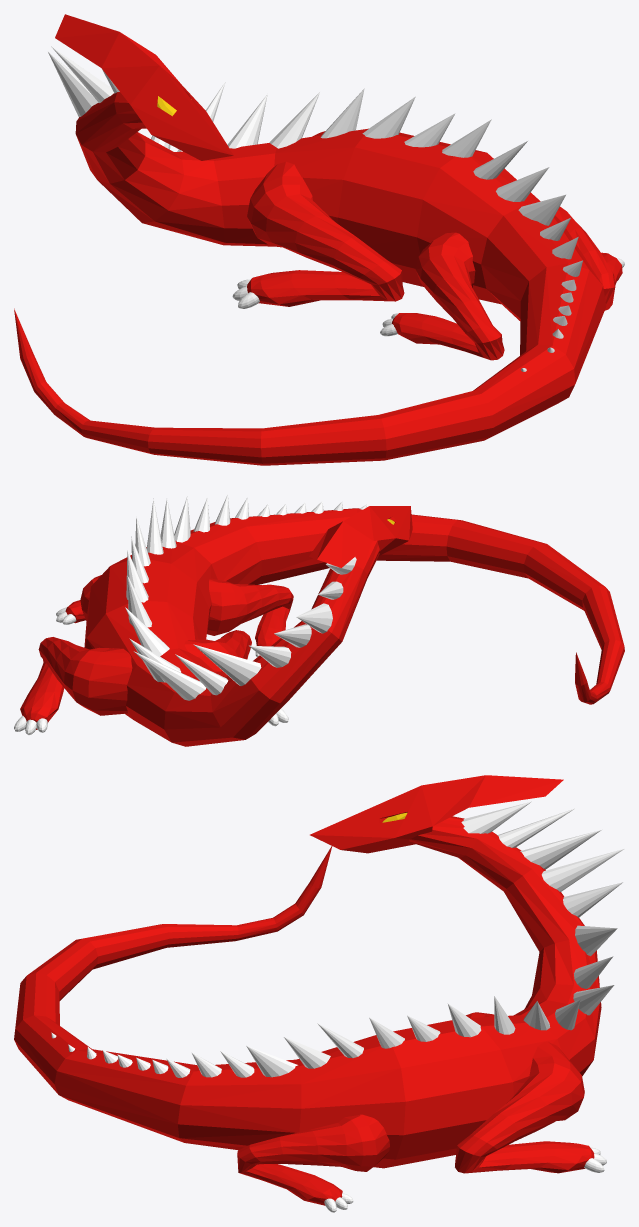
3 views of the same model, one above another, from view 1: azimuth 30°, elevation 25°; view 2: azimuth 150°, elevation 25°; view 3: azimuth 270°, elevation 25° (orthographic). The views are drawn at different scales.
Parts seen in each view (by area): view 1: group791553109, group1191657099, group2079400095, group1539632855, group741603610, group544480986, group1873611023, group1816864310, group1320352143, group1478041266, group1043984382, group1335151103 (+4 smaller); view 2: group791553109, group295694516, group1539632855, group2079400095, group1191657099, group2033911329, group2110255853, group963589825, group1873611023, group544480986, group1783249618, group741603610 (+8 smaller); view 3: group791553109, group295694516, group2079400095, group741603610, group1997184142, group544480986, group1128120049, group1783249618, group1478041266, group2033911329, group1041782311, group1335151103 (+2 smaller).
Boxes of the visible parts, box(x1,y1,x2,y2) form: group791553109: box(14, 92, 606, 465); group1191657099: box(247, 162, 404, 306); group2079400095: box(55, 14, 233, 160); group1539632855: box(391, 232, 504, 360); group741603610: box(555, 206, 622, 310); group544480986: box(48, 52, 98, 116); group1873611023: box(269, 92, 319, 148); group1816864310: box(227, 94, 267, 148); group1320352143: box(362, 96, 415, 138); group1478041266: box(51, 46, 113, 102); group1043984382: box(320, 88, 364, 138); group1335151103: box(496, 167, 549, 201); group791553109: box(84, 508, 624, 746); group295694516: box(20, 637, 132, 729); group1539632855: box(207, 578, 293, 646); group2079400095: box(309, 506, 412, 567); group1191657099: box(184, 630, 251, 676); group2033911329: box(193, 644, 261, 685); group2110255853: box(133, 651, 205, 700); group963589825: box(175, 654, 228, 695); group1873611023: box(125, 607, 169, 656); group544480986: box(296, 603, 332, 633); group1783249618: box(249, 645, 291, 667); group741603610: box(65, 575, 101, 623); group791553109: box(14, 816, 601, 1168); group295694516: box(455, 1041, 594, 1173); group2079400095: box(310, 775, 563, 853); group741603610: box(237, 1114, 389, 1205); group1997184142: box(541, 849, 623, 891); group544480986: box(520, 830, 601, 869); group1128120049: box(461, 801, 531, 833); group1783249618: box(563, 882, 622, 917); group1478041266: box(497, 808, 574, 847); group2033911329: box(575, 925, 617, 956); group1041782311: box(246, 1045, 297, 1077); group1335151103: box(284, 1037, 330, 1068).
Size of the model in its own units: 2.02 by 0.9035 by 1.91.
